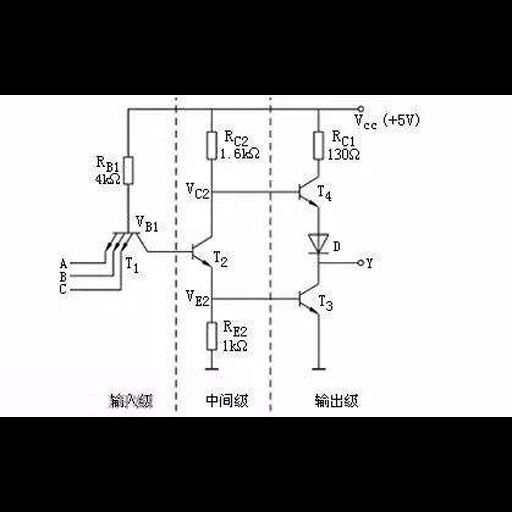firstresistance: (310, 128, 327, 165), (122, 153, 138, 187), (205, 128, 219, 165), (204, 321, 220, 353)
npn: (186, 230, 215, 275), (290, 282, 320, 320), (294, 174, 320, 213)
seconddiode: (303, 228, 331, 258)
